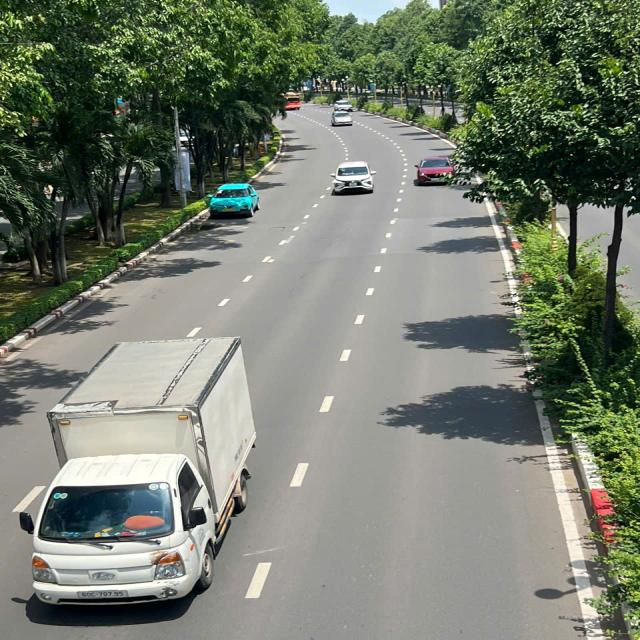ben: (17, 334, 265, 612)
car: (204, 179, 266, 224), (326, 157, 380, 199), (408, 151, 461, 192), (328, 107, 358, 129), (332, 98, 358, 114)
